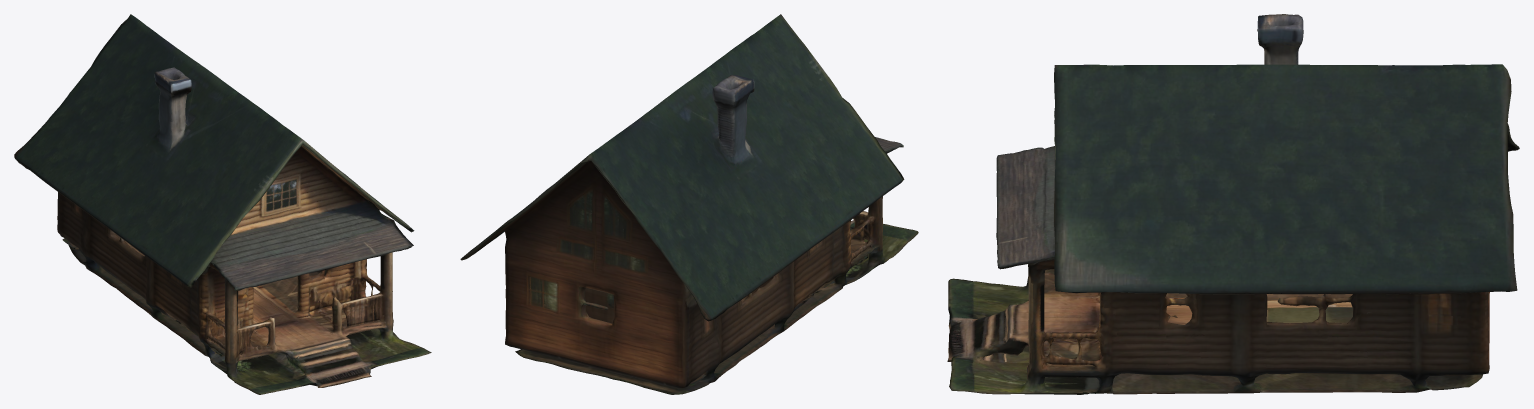
The model's file is house1.glb.
3 views of the same model, side by side, from view 1: azimuth 30°, elevation 25°; view 2: azimuth 150°, elevation 25°; view 3: azimuth 270°, elevation 25° (orthographic). The views are drawn at different scales.
Bounding box in the file's own units: 1.2 × 1.15 × 2.01.
Materials: 1 (1 with a texture image).
